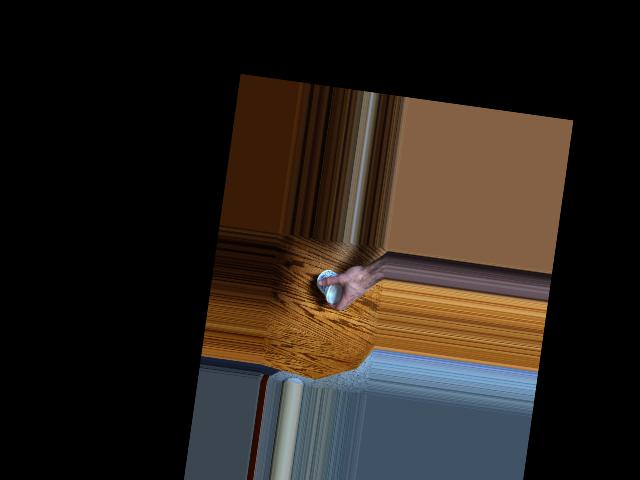cotage: (311, 271, 347, 312)
